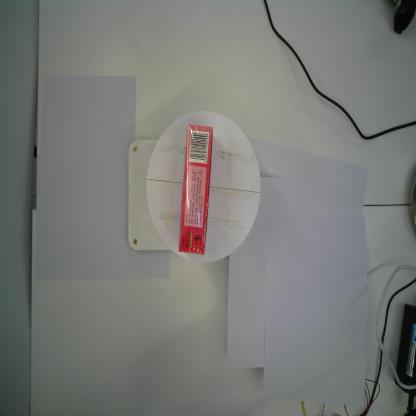Instant Drink: (178, 124, 214, 256)
